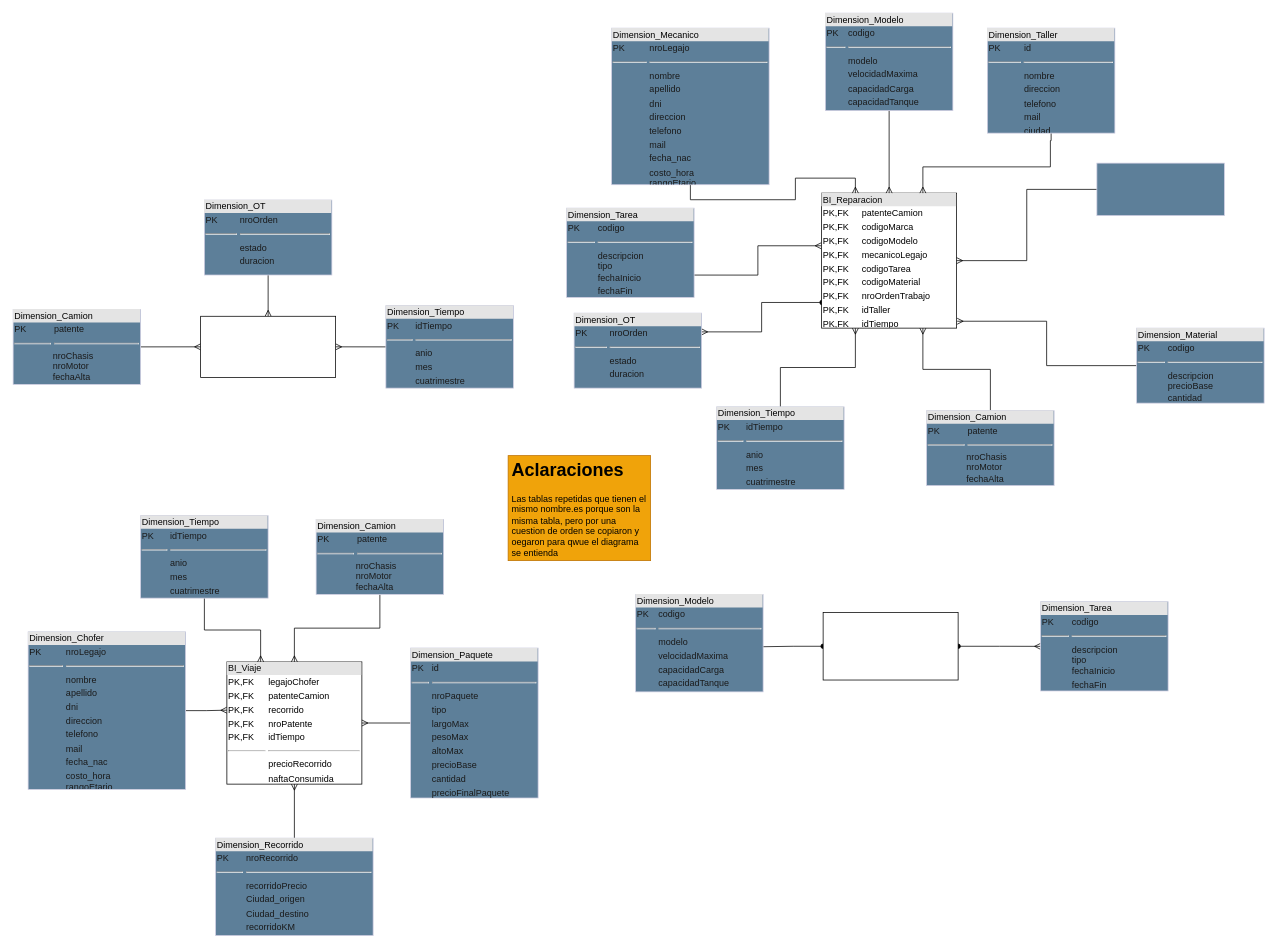
The diagram is 1277 pixels wide and 949 high, and some of its shapes have lost their labels. The box of each missing label's shape, as (x1, y1, x2, y2) in pixels:
BI_Fuera_de_servicio PK,FK patenteCamion PK,FK nroOrdenTrabajo PK,FK tiempo: (200, 316, 336, 377)
BI_Tarea_por_modelo PK,FK codigoModelo PK,FK codigoTarea cantidad: (822, 612, 958, 680)
Dimension_Marca PK codigo nombre: (1096, 162, 1224, 216)
